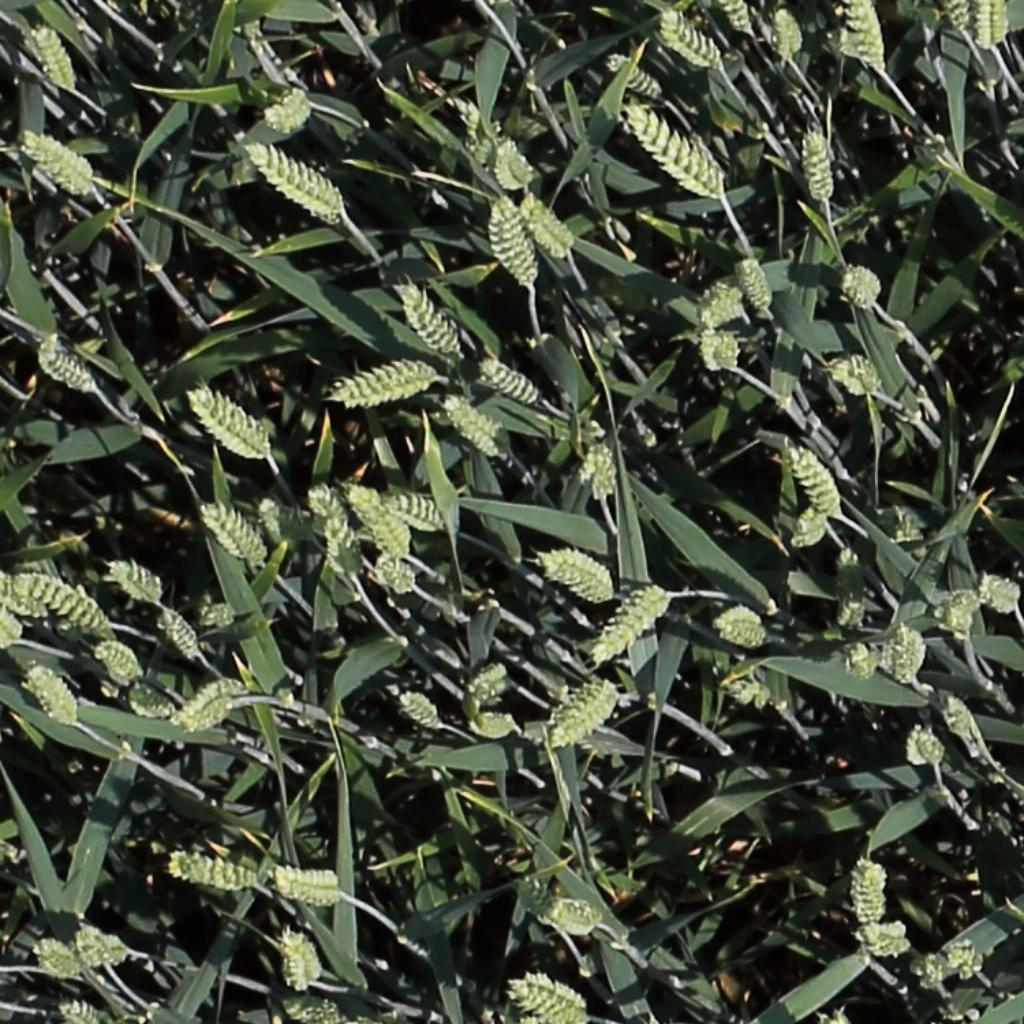0-0: (626, 103, 723, 195), (247, 143, 347, 226), (322, 355, 436, 414), (595, 581, 673, 663), (17, 573, 111, 636), (187, 387, 271, 457), (346, 481, 416, 565), (397, 277, 464, 363), (783, 438, 849, 522), (303, 472, 371, 552), (505, 967, 599, 1024), (491, 188, 539, 289), (200, 501, 267, 567), (675, 286, 784, 326), (21, 660, 80, 731), (550, 686, 621, 745), (278, 863, 352, 919), (518, 882, 599, 933), (19, 131, 95, 184), (279, 924, 332, 1000), (846, 854, 889, 946), (660, 9, 724, 70), (442, 397, 507, 457), (30, 19, 79, 98), (319, 502, 367, 582), (517, 192, 577, 252), (542, 550, 615, 599), (155, 602, 207, 667), (847, 1, 891, 76), (604, 49, 667, 101), (166, 858, 258, 890), (480, 359, 544, 404), (494, 129, 537, 195), (738, 248, 778, 318), (713, 608, 773, 654), (804, 121, 836, 206), (836, 542, 866, 632), (939, 688, 983, 748), (718, 674, 787, 712), (0, 566, 46, 621), (183, 672, 255, 707), (40, 349, 96, 393), (372, 548, 420, 598), (780, 503, 840, 543), (894, 615, 924, 692), (938, 932, 987, 979), (106, 561, 162, 602), (72, 925, 124, 969), (896, 956, 953, 996), (122, 679, 183, 716), (466, 708, 526, 744), (253, 491, 289, 550), (843, 262, 886, 311), (907, 723, 948, 774), (264, 86, 312, 129), (397, 690, 445, 731), (383, 498, 446, 529), (591, 435, 618, 507), (775, 2, 804, 68), (940, 582, 976, 635), (465, 664, 510, 705), (32, 940, 83, 976), (94, 643, 141, 682), (977, 0, 1010, 55), (181, 699, 234, 733), (882, 628, 916, 680), (722, 0, 763, 43), (699, 315, 726, 379), (847, 637, 880, 688), (835, 357, 884, 391), (974, 573, 1021, 608), (716, 324, 745, 378), (282, 998, 341, 1022), (943, 0, 976, 42), (54, 1000, 103, 1024), (862, 927, 912, 950), (0, 592, 20, 649)
